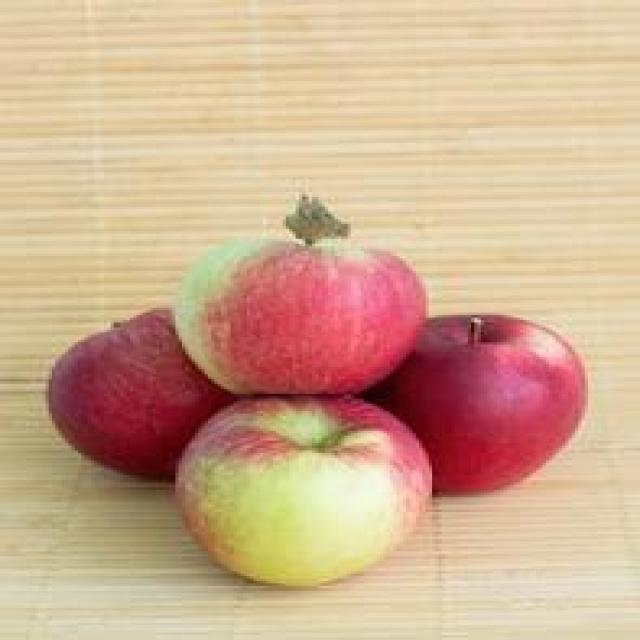apple: (180, 398, 432, 585), (180, 229, 427, 398)
